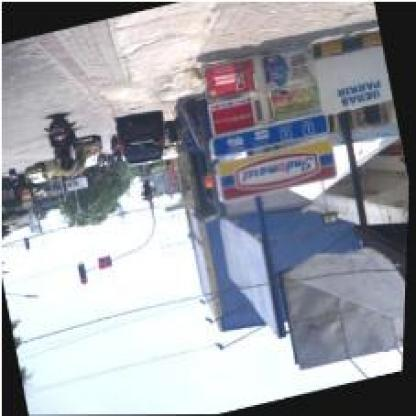red: (77, 264, 88, 286), (144, 181, 153, 200), (1, 215, 6, 239)
